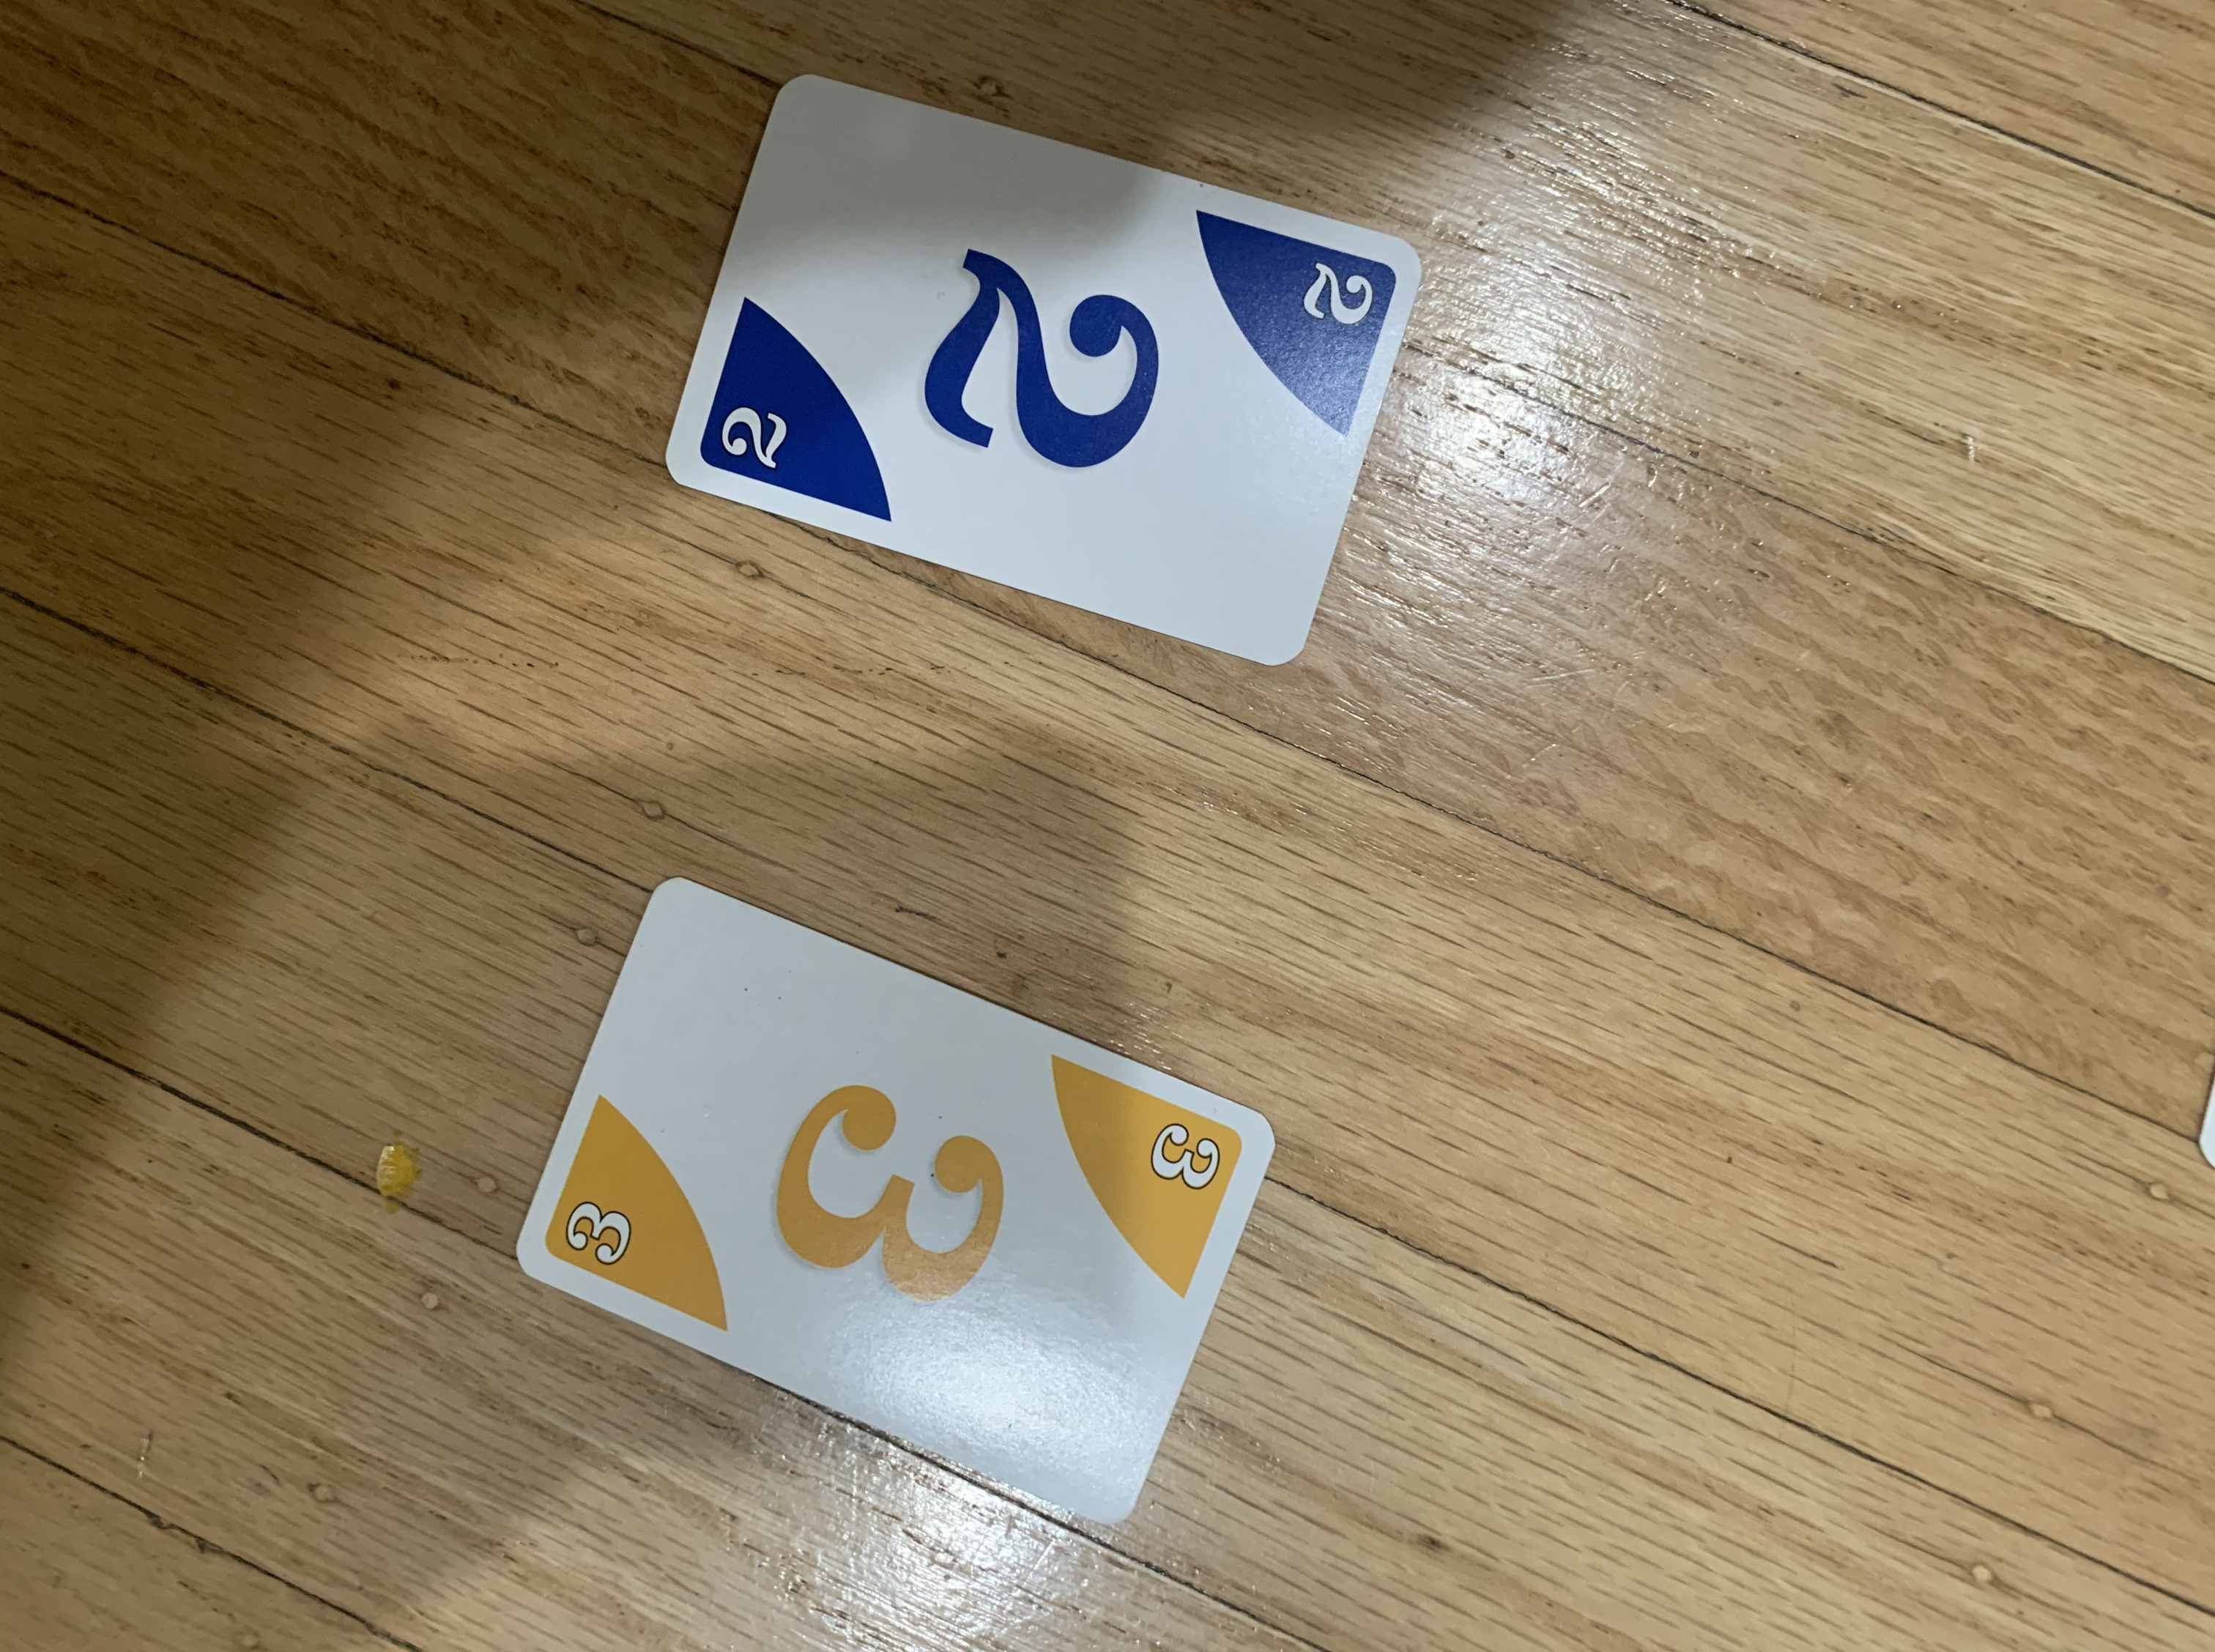three: (500, 864, 1286, 1531)
two: (649, 61, 1432, 677)
